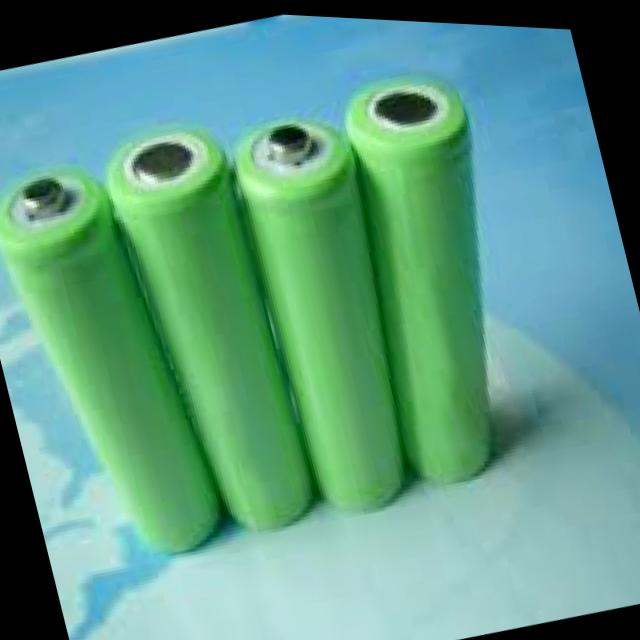B3: (0, 36, 581, 614)
